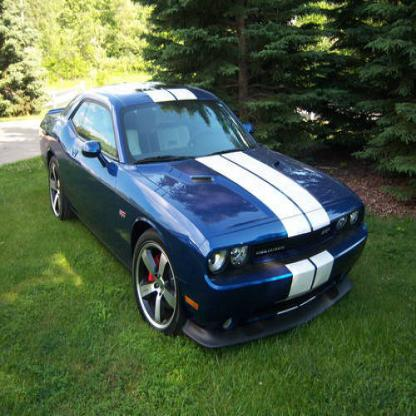Vehicle: (39, 80, 370, 352)
